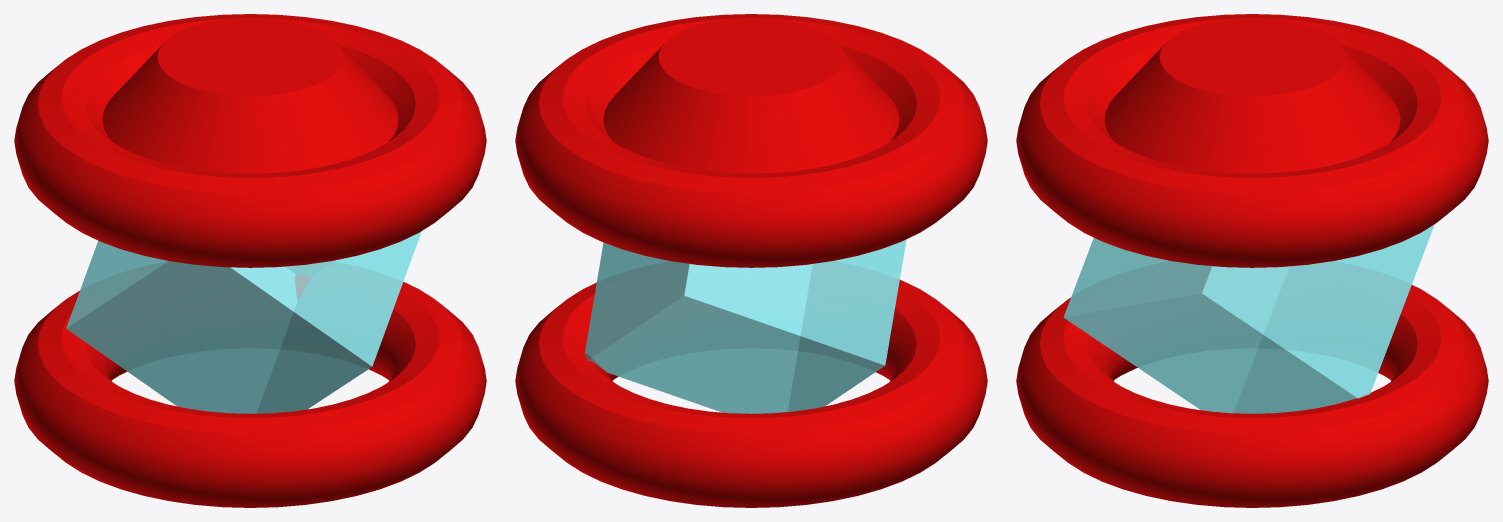
3 views of the same model, side by side, from view 1: azimuth 30°, elevation 25°; view 2: azimuth 150°, elevation 25°; view 3: azimuth 270°, elevation 25° (orthographic).
Visible parts, largest first — view 1: Base, Glass; view 2: Base, Glass; view 3: Base, Glass.
Boxes of the visible parts, <box> form: Base: <box>14,14,486,507</box>; Glass: <box>66,231,421,413</box>; Base: <box>515,14,987,507</box>; Glass: <box>584,239,906,413</box>; Base: <box>1016,14,1488,507</box>; Glass: <box>1063,224,1434,413</box>.
Size of the model in its own units: 154 by 137 by 154.
